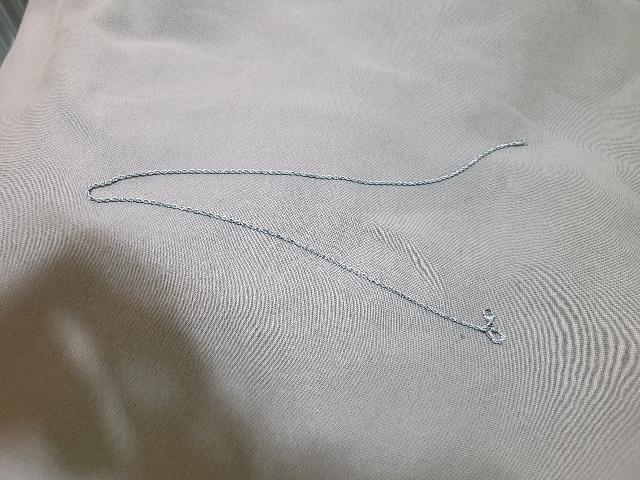Metal: (83, 137, 528, 350)
